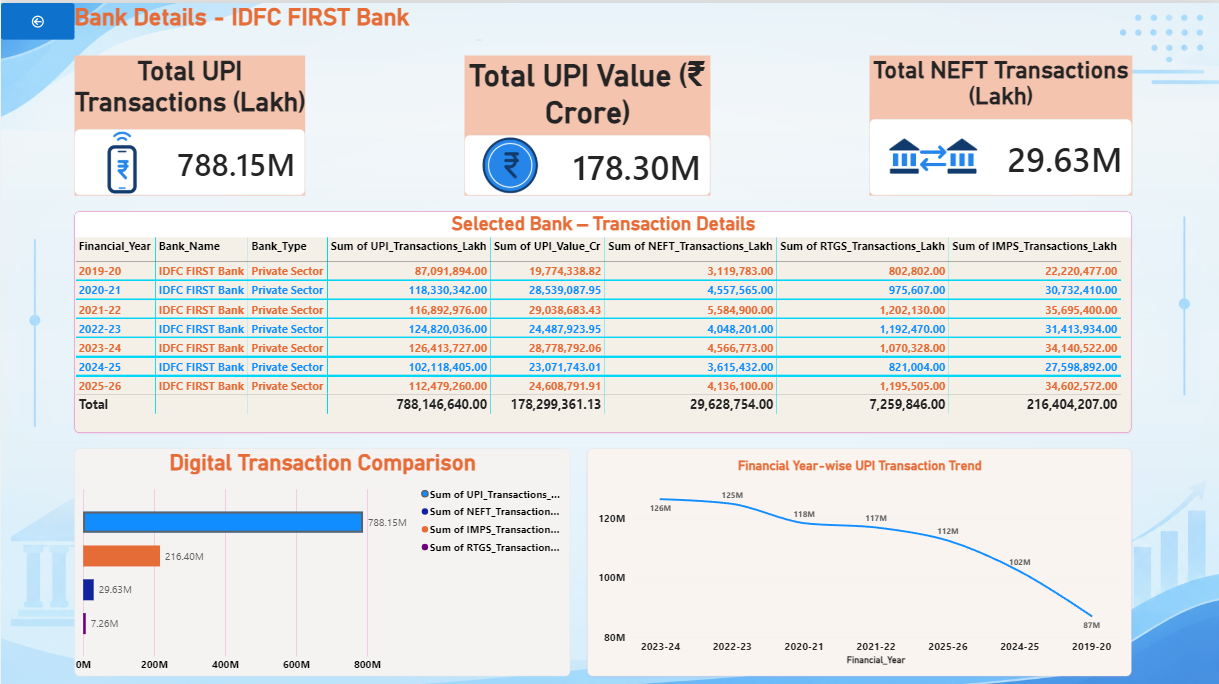

Layout of this report page (visuals, bound fields, positions):
{"tool":"powerbi","page":{"name":"Bank Details","canvas":[1920,1080],"ordinal":2},"visuals":[{"type":"actionButton","box":[0,0,116.3,58.2],"z":0},{"type":"cardVisual","title":"Total UPI Transactions (Lakh)","fields":{"Data":["Sum(dataset_2_3cleaned.UPI_Transactions_Lakh)"]},"box":[116.2,83.4,363.4,220.4],"z":1000},{"type":"cardVisual","title":"Total UPI Value (₹ Crore)","fields":{"Data":["Sum(dataset_2_3cleaned.UPI_Value_Cr)"]},"box":[729.7,83.4,387.2,220.4],"z":2000},{"type":"cardVisual","title":"Total NEFT Transactions (Lakh)","fields":{"Data":["Sum(dataset_2_3cleaned.NEFT_Transactions_Lakh)"]},"box":[1367.1,83.4,414,220.4],"z":3000},{"type":"clusteredBarChart","title":"Digital Transaction Comparison","fields":{"Y":["Sum(dataset_2_3cleaned.UPI_Transactions_Lakh)","Sum(dataset_2_3cleaned.NEFT_Transactions_Lakh)","Sum(dataset_2_3cleaned.IMPS_Transactions_Lakh)","Sum(dataset_2_3cleaned.RTGS_Transactions_Lakh)"]},"box":[115.4,701.8,780.8,358.5],"z":4000},{"type":"tableEx","title":"Selected Bank – Transaction Details","fields":{"Values":["dataset_2_3cleaned.Financial_Year","dataset_2_3cleaned.Bank_Name","dataset_2_3cleaned.Bank_Type","Sum(dataset_2_3cleaned.UPI_Transactions_Lakh)","Sum(dataset_2_3cleaned.UPI_Value_Cr)","Sum(dataset_2_3cleaned.NEFT_Transactions_Lakh)","Sum(dataset_2_3cleaned.RTGS_Transactions_Lakh)","Sum(dataset_2_3cleaned.IMPS_Transactions_Lakh)"]},"box":[116.2,327.6,1664.9,348.5],"z":5000},{"type":"textbox","box":[115.6,0,640.7,58.8],"z":6000},{"type":"lineChart","title":"Financial Year-wise UPI Transaction Trend","fields":{"Category":["dataset_2_3cleaned.Financial_Year"],"Y":["Sum(dataset_2_3cleaned.UPI_Transactions_Lakh)"]},"box":[923.5,701.8,856.7,358.5],"z":7001}]}

Visuals, with their boxes in screenshot pixels (x1, y1, x2, y2), scaled from the page's 1920x1080 canvas onto the 1219x684 screenshot:
actionButton: {"left": 0, "top": 0, "right": 74, "bottom": 37}
"Total UPI Transactions (Lakh)" cardVisual: {"left": 74, "top": 53, "right": 304, "bottom": 192}
"Total UPI Value (₹ Crore)" cardVisual: {"left": 463, "top": 53, "right": 709, "bottom": 192}
"Total NEFT Transactions (Lakh)" cardVisual: {"left": 868, "top": 53, "right": 1131, "bottom": 192}
"Digital Transaction Comparison" clusteredBarChart: {"left": 73, "top": 444, "right": 569, "bottom": 672}
"Selected Bank – Transaction Details" tableEx: {"left": 74, "top": 207, "right": 1131, "bottom": 428}
textbox: {"left": 73, "top": 0, "right": 480, "bottom": 37}
"Financial Year-wise UPI Transaction Trend" lineChart: {"left": 586, "top": 444, "right": 1130, "bottom": 672}
